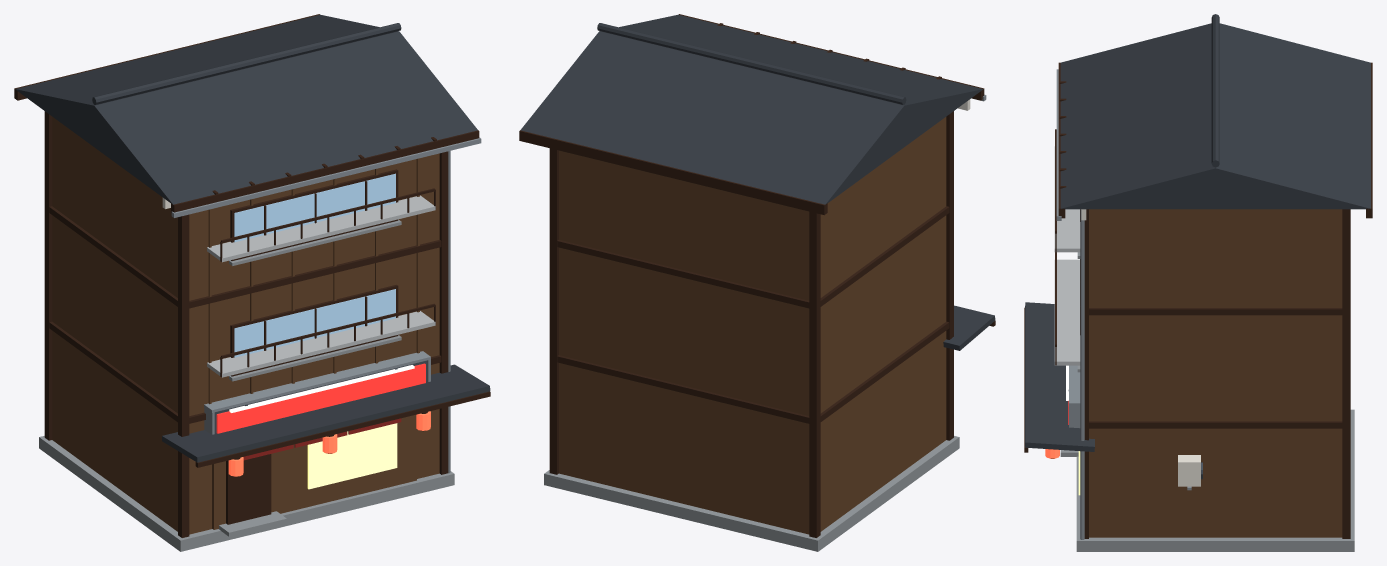
The model's file is shop_yatai_3f.glb.
3 renders of one model, left to right at view 1: azimuth 30°, elevation 25°; view 2: azimuth 150°, elevation 25°; view 3: azimuth 270°, elevation 25°, orthographic.
Parts seen in each view (by area): view 1: body.046, roof.023, eave.023, panel.013, base.046, win_glass.060, win_glass.062, panel_glass.013, sign_face.039, balcony_slab.051, balcony_slab.050, post.187 (+21 smaller); view 2: body.046, roof.023, base.046, post.188, eave_back.023, beam.102, beam.101, post.190, ridge.023, post.187, eave.023; view 3: body.046, roof.023, eave.023, base.046, post.190, balcony_slab.050, beam.101, beam.102, post.189, downpipe.021, ridge.023, balcony_slab.051 (+4 smaller).
Boxes of the visible parts, box(x1,y1,x2,y2) form: body.046: box(52, 117, 439, 534); roof.023: box(15, 14, 477, 204); eave.023: box(162, 364, 490, 462); panel.013: box(212, 415, 416, 529); base.046: box(39, 436, 454, 551); win_glass.060: box(234, 289, 395, 357); win_glass.062: box(234, 173, 395, 242); panel_glass.013: box(307, 423, 397, 489); sign_face.039: box(216, 363, 425, 433); balcony_slab.051: box(207, 195, 435, 262); balcony_slab.050: box(207, 311, 435, 377); post.187: box(178, 214, 189, 537); body.046: box(559, 117, 946, 534); roof.023: box(520, 14, 983, 204); base.046: box(544, 436, 959, 551); post.188: box(809, 211, 820, 537); eave_back.023: box(519, 130, 827, 215); beam.102: box(557, 206, 949, 308); beam.101: box(557, 321, 949, 423); post.190: box(549, 148, 558, 474); ridge.023: box(597, 23, 906, 104); post.187: box(946, 111, 953, 440); eave.023: box(943, 305, 995, 350); body.046: box(1089, 209, 1342, 537); roof.023: box(1060, 23, 1370, 209); eave.023: box(1025, 302, 1094, 451); base.046: box(1076, 409, 1354, 551); post.190: box(1342, 209, 1350, 538); balcony_slab.050: box(1054, 259, 1080, 365); beam.101: box(1089, 421, 1342, 428); beam.102: box(1089, 308, 1342, 315); post.189: box(1084, 209, 1088, 538); downpipe.021: box(1080, 209, 1084, 539); ridge.023: box(1211, 14, 1219, 167); balcony_slab.051: box(1054, 146, 1080, 252).
Bounding box in the file's own units: 8.5 × 10.75 × 8.5.
